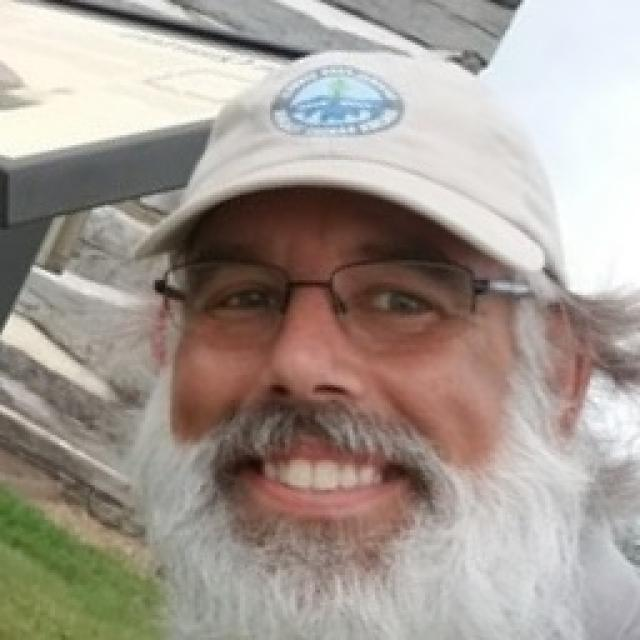glasses: (134, 242, 552, 356)
